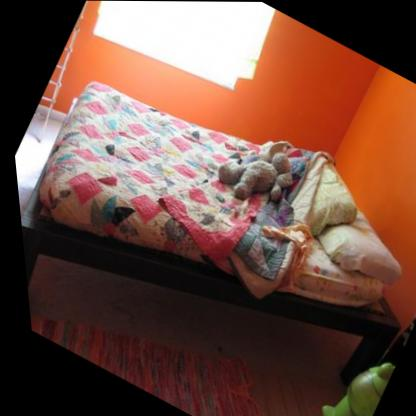Bed: (2, 31, 416, 416)
